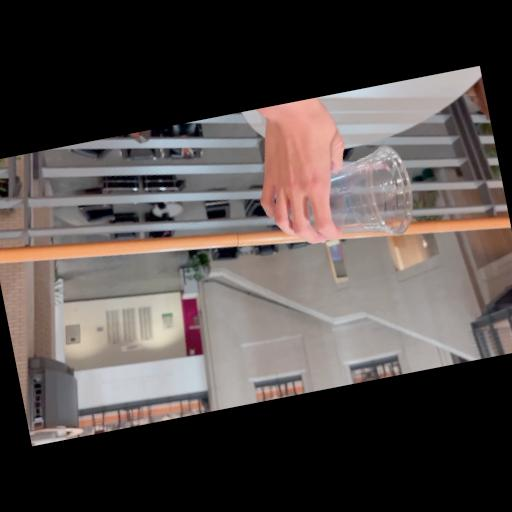lp_plastic_cup: (288, 142, 420, 252)
